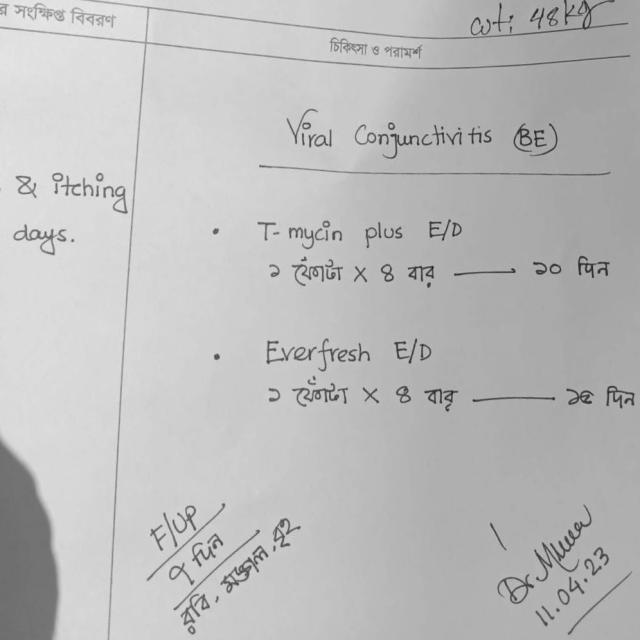medicine: (254, 201, 414, 254), (255, 326, 378, 372)
